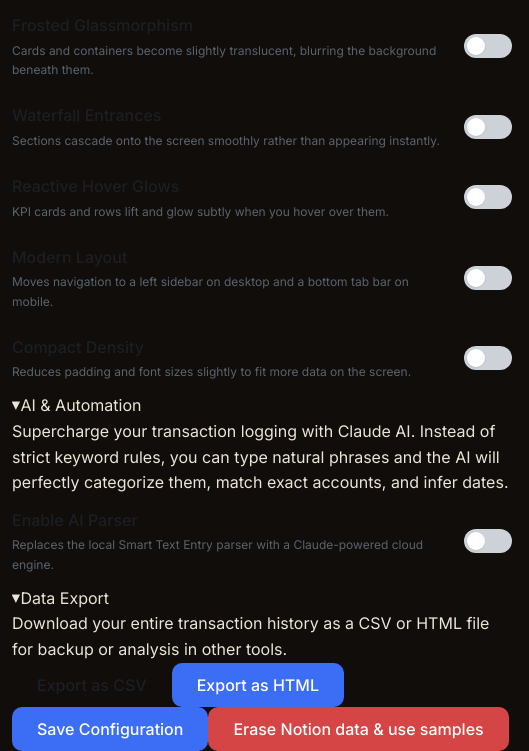
Scenario: Settings Component › clears the configuration instead of crashing when every field is emptied and saved
(page scrolled)
Click the button "Save Configuration" at (110, 729), box [12,707,208,750]
(page scrolled)
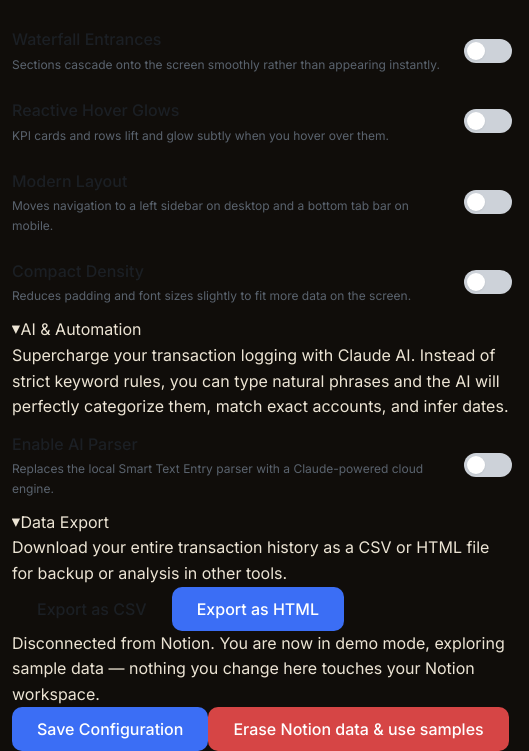
Result: the text "now in demo mode" is shown at [12,633,505,704]
